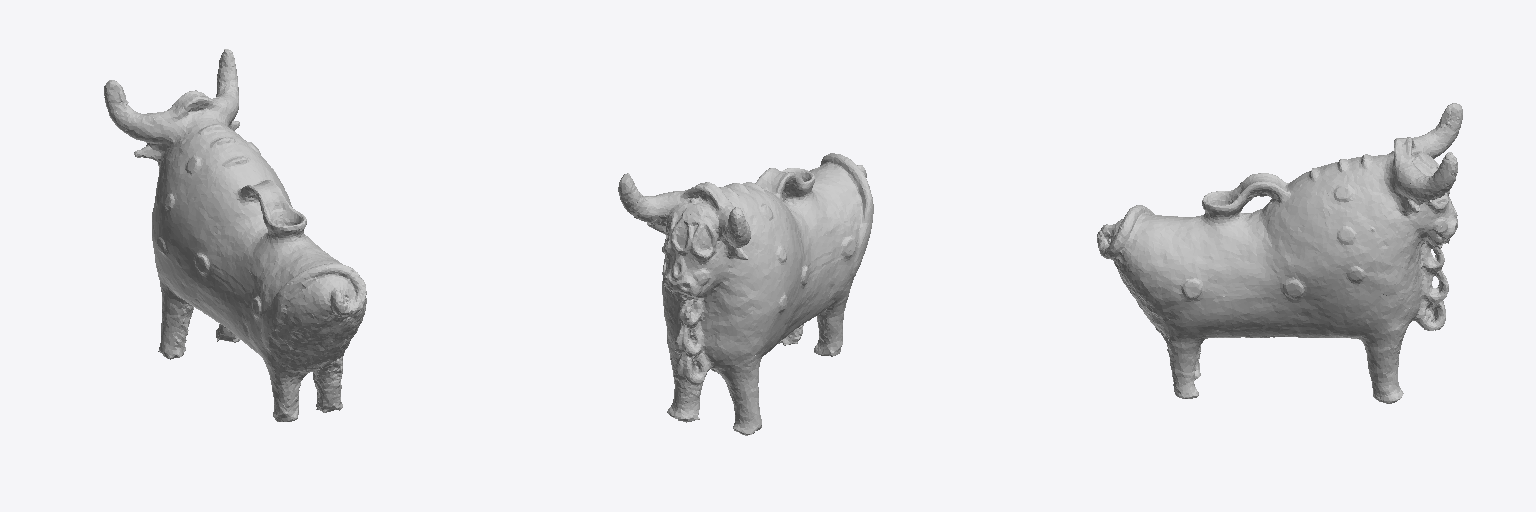
File: cow.obj
The picture shows the model from 3 angles: view 1: azimuth 30°, elevation 25°; view 2: azimuth 150°, elevation 25°; view 3: azimuth 270°, elevation 25°; orthographic projection.
Bounding box in the file's own units: 2.85 × 5.62 × 7.12.